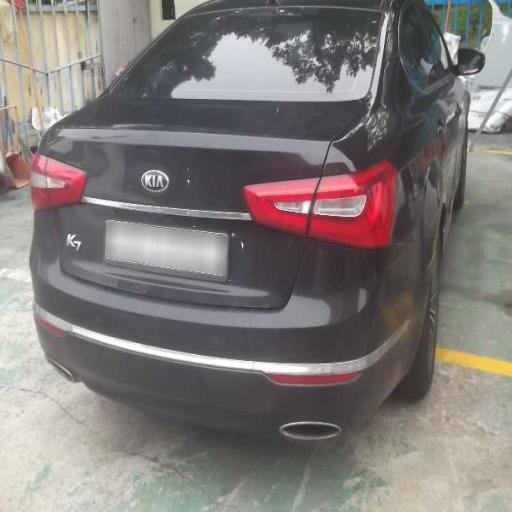normal: (56, 12, 470, 441)
